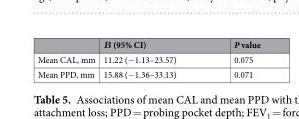table: (36, 37, 259, 79)
table column: (98, 37, 204, 79), (36, 37, 98, 79), (204, 37, 259, 79)
table column header: (36, 37, 259, 51)
table row: (36, 51, 259, 66), (36, 37, 259, 51), (36, 66, 259, 79)
